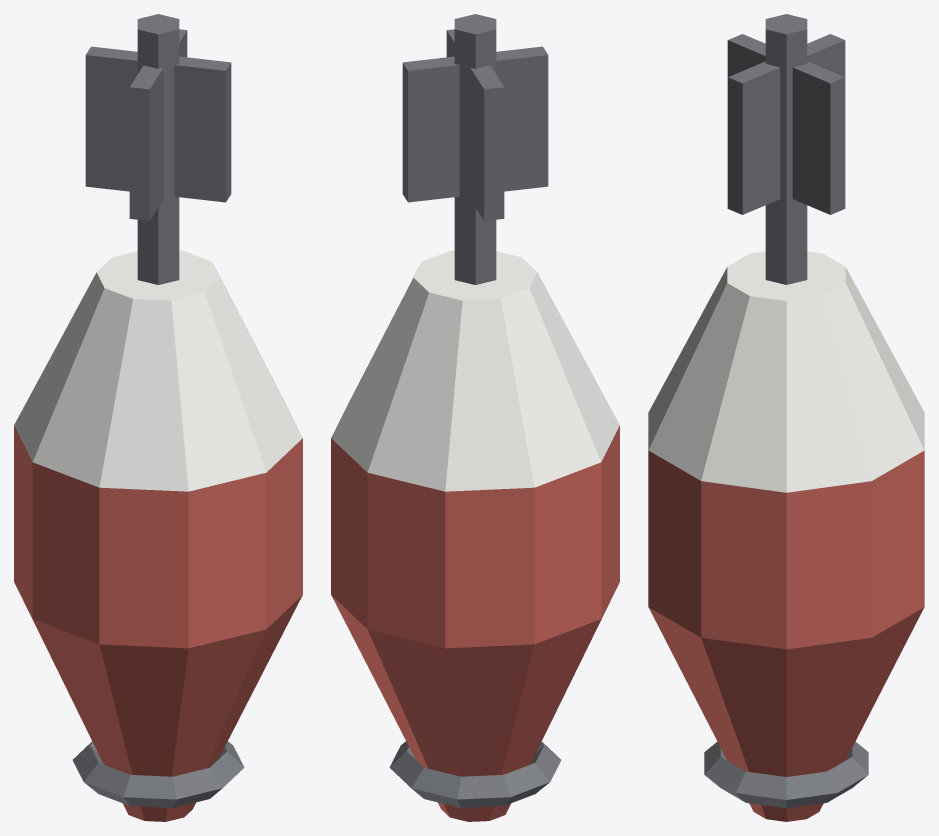
The model's file is marker_buoy.glb.
3 views of the same model, side by side, from view 1: azimuth 30°, elevation 25°; view 2: azimuth 150°, elevation 25°; view 3: azimuth 270°, elevation 25° (orthographic).
Parts seen in each view (by area): view 1: marker-buoy; view 2: marker-buoy; view 3: marker-buoy.
Part boxes in pixels (left/top/right/bottom): marker-buoy: left=14, top=14, right=302, bottom=821; marker-buoy: left=331, top=14, right=619, bottom=821; marker-buoy: left=648, top=14, right=924, bottom=821.
Size of the model in its own units: 0.84 by 2.5 by 0.7989.
